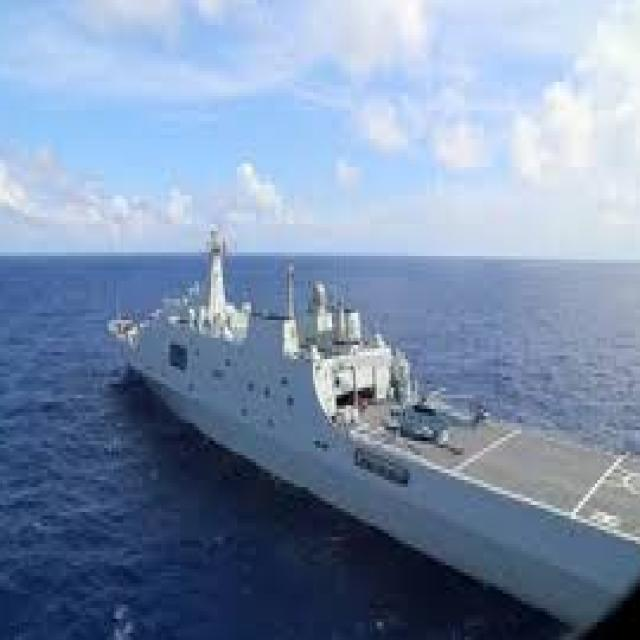navalvessels: (121, 227, 634, 615)
